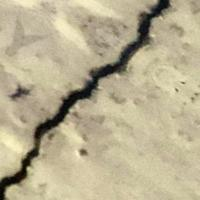crack: (0, 0, 172, 199)
